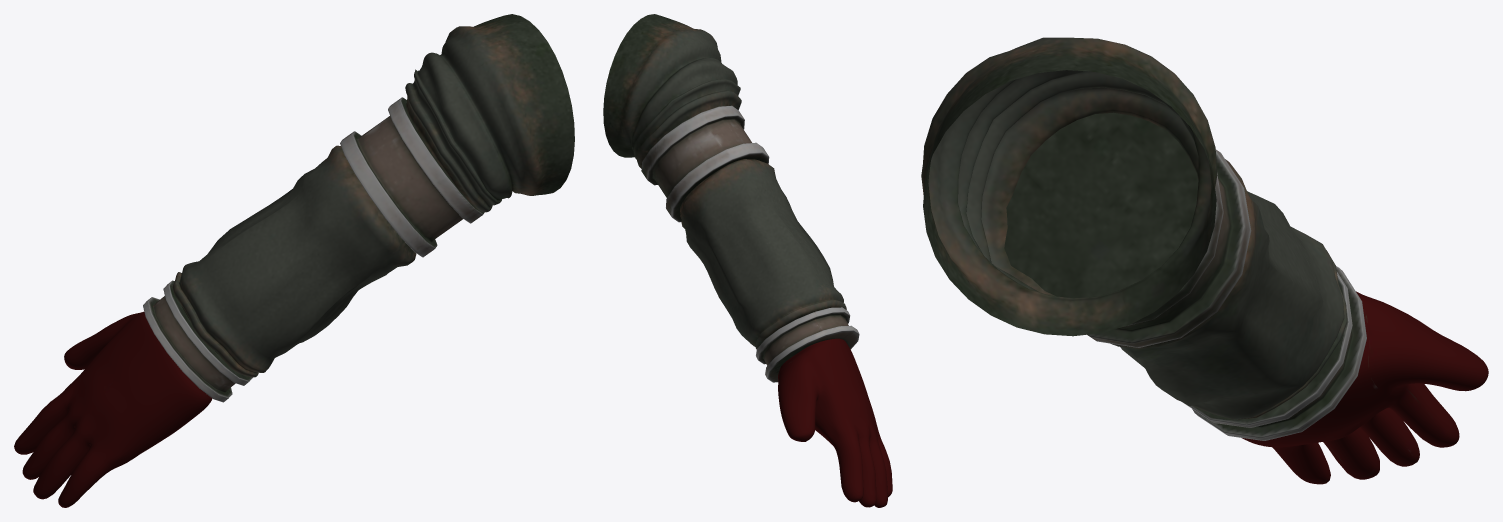
File: brazoizq.obj
3 renders of one model, left to right at view 1: azimuth 30°, elevation 25°; view 2: azimuth 150°, elevation 25°; view 3: azimuth 270°, elevation 25°, orthographic. The views are drawn at different scales.
Parts seen in each view (by area): view 1: defaultMaterial.068; view 2: defaultMaterial.068; view 3: defaultMaterial.068.
Part boxes in pixels (bbox=[...]): defaultMaterial.068: bbox=[14, 14, 574, 507]; defaultMaterial.068: bbox=[603, 14, 892, 507]; defaultMaterial.068: bbox=[921, 37, 1488, 484].
Size of the model in its own units: 1.6 by 1.71 by 1.23.
